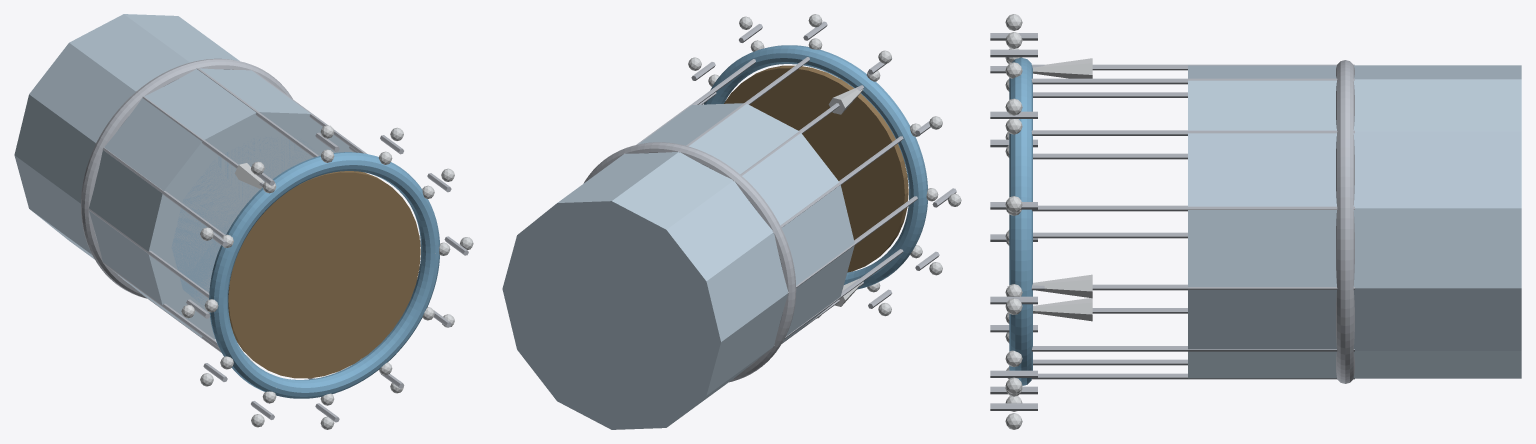
File: pot_legendary_1.glb
3 renders of one model, left to right at view 1: azimuth 30°, elevation 25°; view 2: azimuth 150°, elevation 25°; view 3: azimuth 270°, elevation 25°, orthographic. The views are drawn at different scales.
Visible parts, largest first — view 1: world; view 2: world; view 3: world.
Boxes of the visible parts, x1,y1,x2,y2 form: world: (14,14,473,429); world: (502,14,961,429); world: (990,14,1521,429).
Size of the model in its own units: 8.76 by 8.76 by 11.15.
